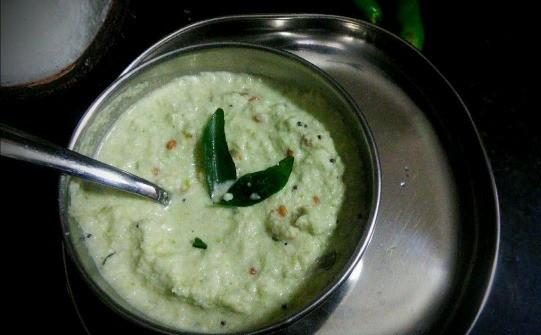CoconutChutney: (72, 67, 369, 335)
